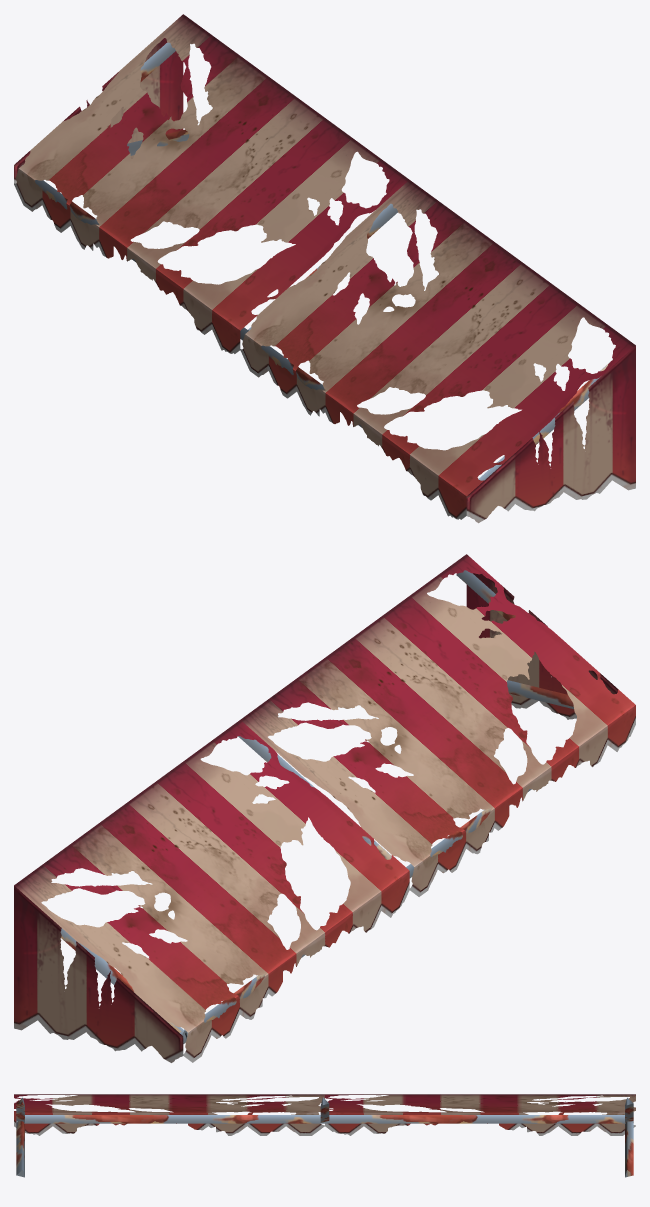
Rendered from awning02_6m.fbx.
3 renders of one model, top to bottom at view 1: azimuth 30°, elevation 25°; view 2: azimuth 150°, elevation 25°; view 3: azimuth 270°, elevation 25°, orthographic. The views are drawn at different scales.
Parts seen in each view (by area): view 1: awning02_6m; view 2: awning02_6m; view 3: awning02_6m.
Part boxes in pixels (bbox=[...]): awning02_6m: bbox=[14, 14, 635, 523]; awning02_6m: bbox=[14, 554, 635, 1062]; awning02_6m: bbox=[14, 1094, 635, 1177].
Size of the model in its own units: 132 by 105 by 602.
